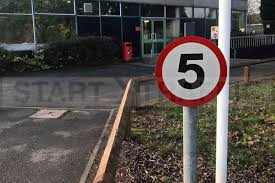sp5: (157, 39, 230, 103)
